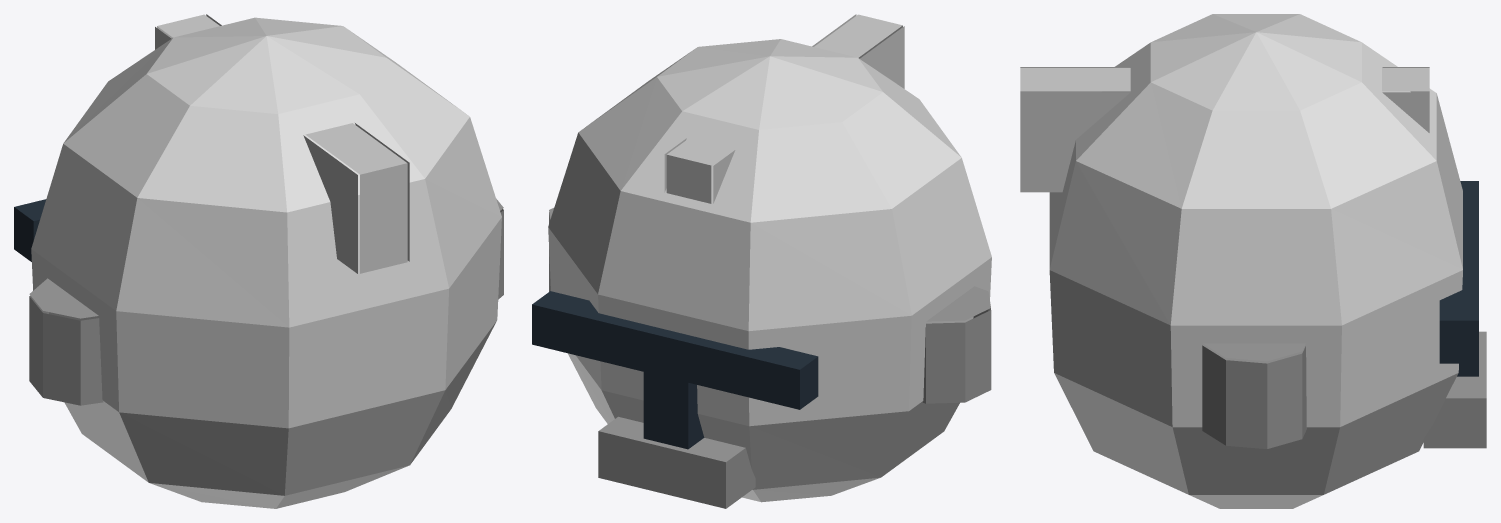
File: person_hat_marine_helm.obj
3 views of the same model, side by side, from view 1: azimuth 30°, elevation 25°; view 2: azimuth 150°, elevation 25°; view 3: azimuth 270°, elevation 25° (orthographic). The views are drawn at different scales.
Visible parts, largest first — view 1: person_hat_marine_helm; view 2: person_hat_marine_helm; view 3: person_hat_marine_helm.
Part boxes in pixels (x1=…): person_hat_marine_helm: x1=14, y1=14, x2=503, y2=508; person_hat_marine_helm: x1=532, y1=14, x2=991, y2=508; person_hat_marine_helm: x1=1020, y1=14, x2=1486, y2=508.
Bounding box in the file's own units: 0.6772 × 0.6111 × 0.5927.
